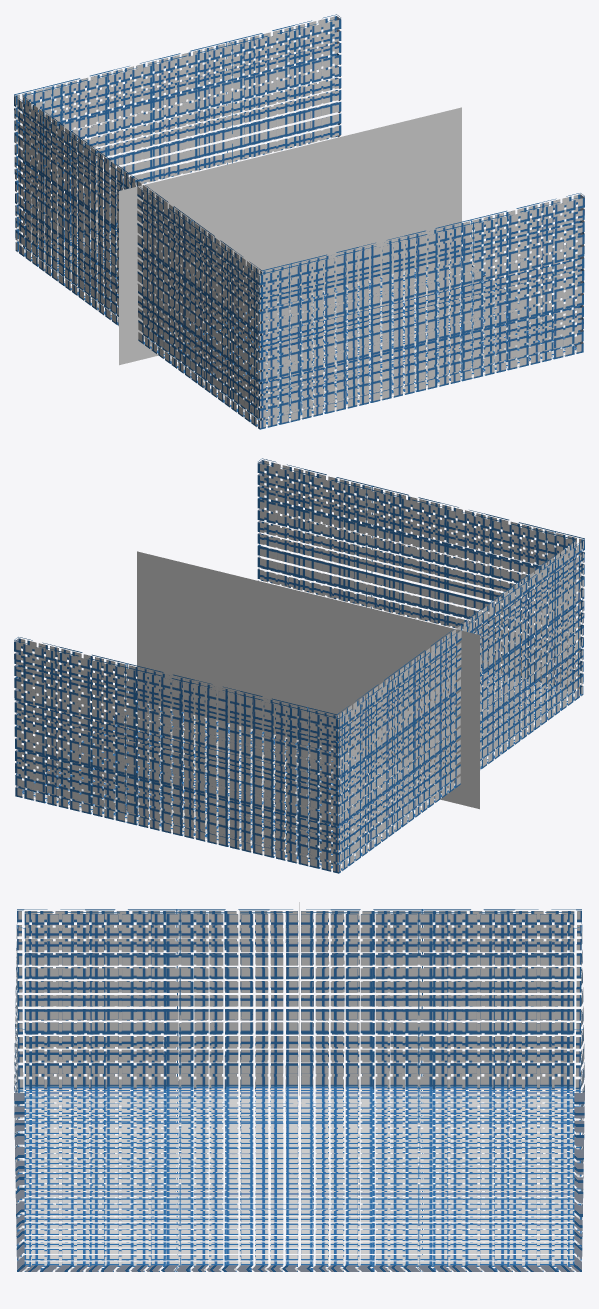
The model's file is Loca4.fbx.
The picture shows the model from 3 angles, top to bottom: view 1: azimuth 30°, elevation 25°; view 2: azimuth 150°, elevation 25°; view 3: azimuth 270°, elevation 25°; orthographic projection. The views are drawn at different scales.
Parts seen in each view (by area): view 1: Plane, Plane.001; view 2: Plane, Plane.001; view 3: Plane.
Boxes of the visible parts, x1,y1,x2,y2 form: Plane: (14,14,584,429); Plane.001: (119,107,461,365); Plane: (14,458,584,873); Plane.001: (137,551,479,809); Plane: (14,909,584,1271).
Size of the model in its own units: 3080 by 1517 by 3861.
